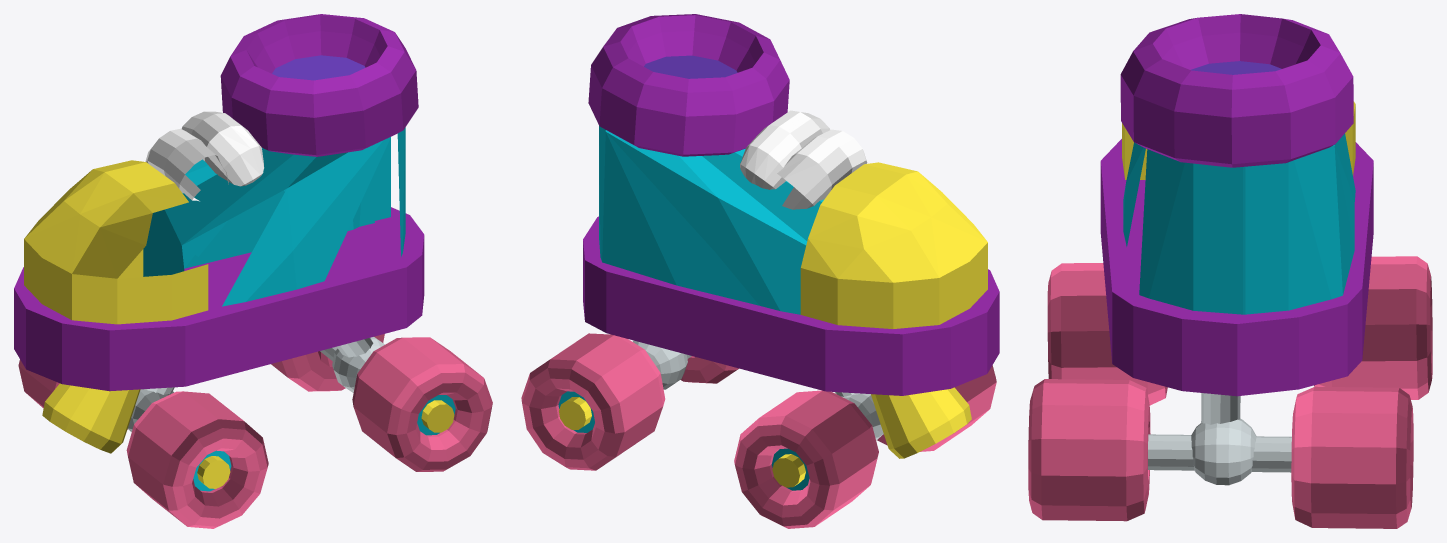
Rendered from group299868332_lev3.glb.
3 views of the same model, side by side, from view 1: azimuth 30°, elevation 25°; view 2: azimuth 150°, elevation 25°; view 3: azimuth 270°, elevation 25° (orthographic). The views are drawn at different scales.
Parts seen in each view (by area): view 1: group299868332_lev3; view 2: group299868332_lev3; view 3: group299868332_lev3.
Part boxes in pixels (bbox=[...]): group299868332_lev3: bbox=[14, 14, 492, 528]; group299868332_lev3: bbox=[521, 14, 999, 528]; group299868332_lev3: bbox=[1028, 14, 1432, 528].
Bounding box in the file's own units: 1.28 × 1.22 × 0.9665.
